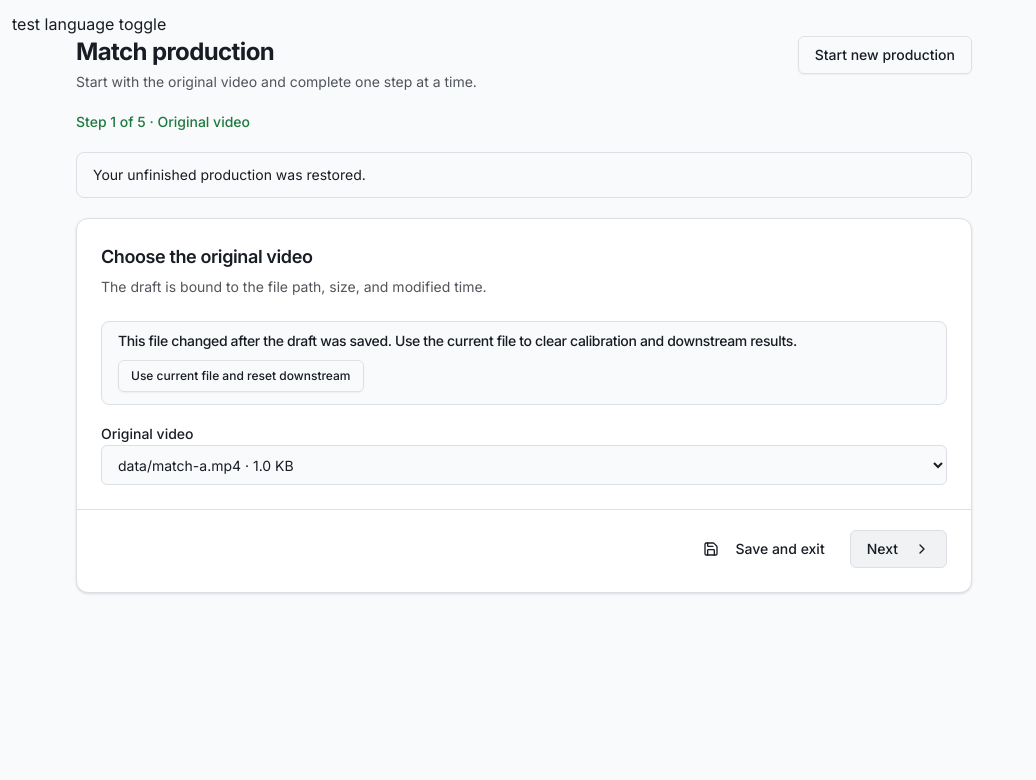
Test: ProductionPage › detects same-path file replacement and waits for explicit reset
Expected: the heading "file changed after the draft was saved" is shown, [118,332,797,349]
Click the button "Use current file and reset downstream" at (241, 376), box [118,360,364,392]
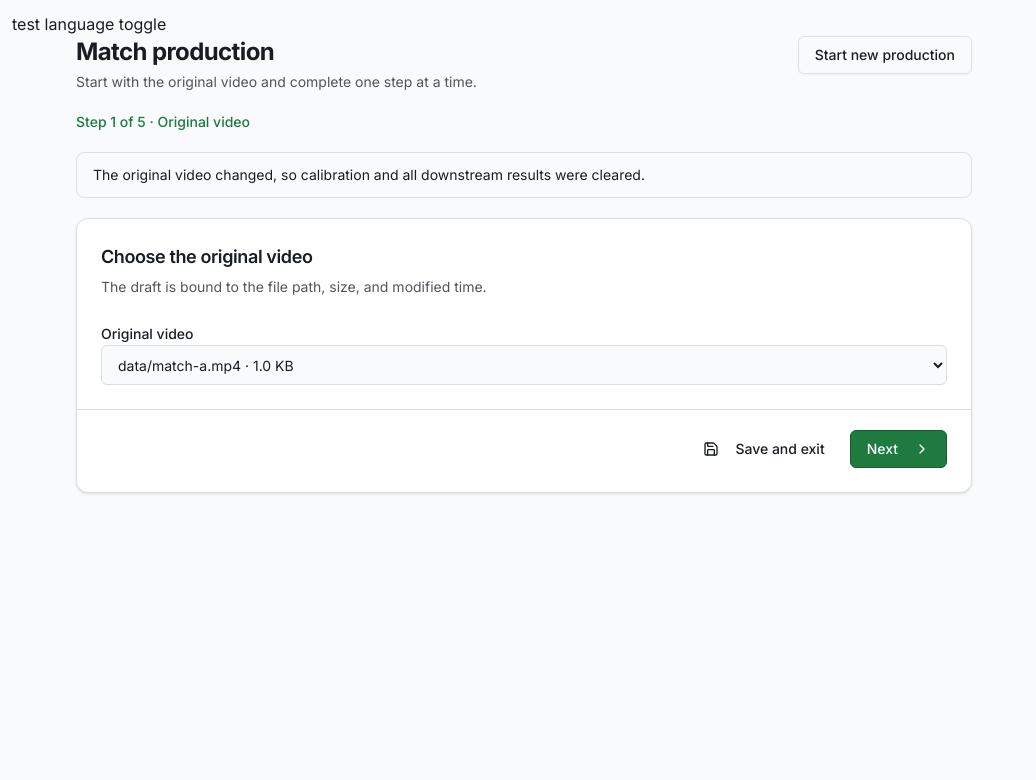
Now the heading "file changed after the draft was saved" is gone
Now the text "calibration and all downstream results were cleared" is shown, box [93,166,645,183]
